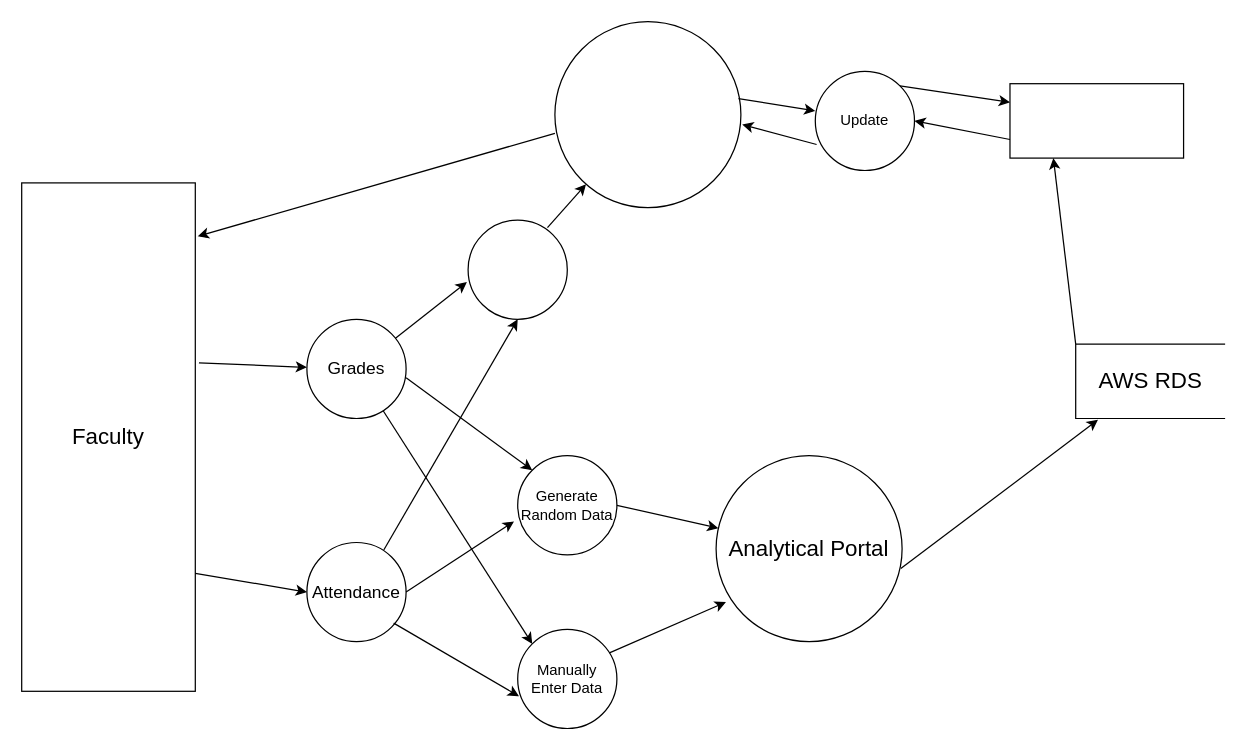
The diagram is 1246 pixels wide and 750 high, and some of its shapes have lost their labels. The shapes that lost their labels are listed below. From the top down, each one's centre as x and y in pixels, then its label:
point 647,114: Dashboard
point 1096,120: Tableau
point 517,269: Filters
